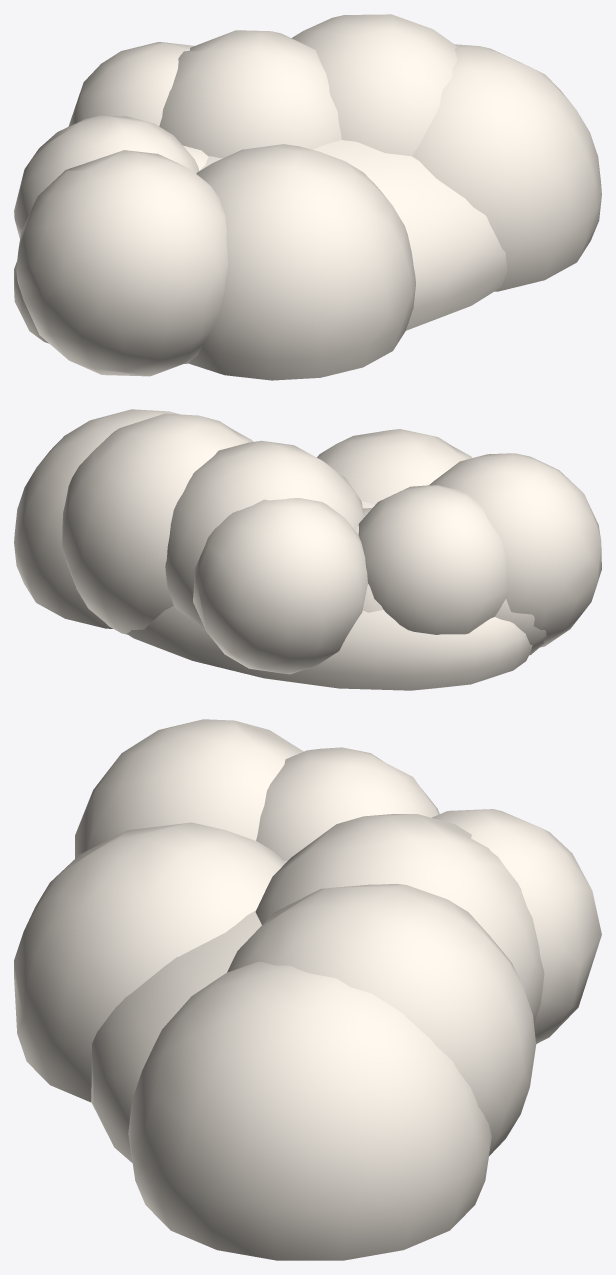
Rendered from cloud.glb.
The picture shows the model from 3 angles, top to bottom: view 1: azimuth 30°, elevation 25°; view 2: azimuth 150°, elevation 25°; view 3: azimuth 270°, elevation 25°; orthographic projection. The views are drawn at different scales.
Parts seen in each view (by area): view 1: cloud; view 2: cloud; view 3: cloud.
Part boxes in pixels (box(x1,y1,x2,y2)): cloud: box(14, 14, 601, 380); cloud: box(14, 409, 601, 690); cloud: box(14, 719, 601, 1260).
Bounding box in the file's own units: 15.05 × 5.14 × 10.52.
1 material, 1 textured.
